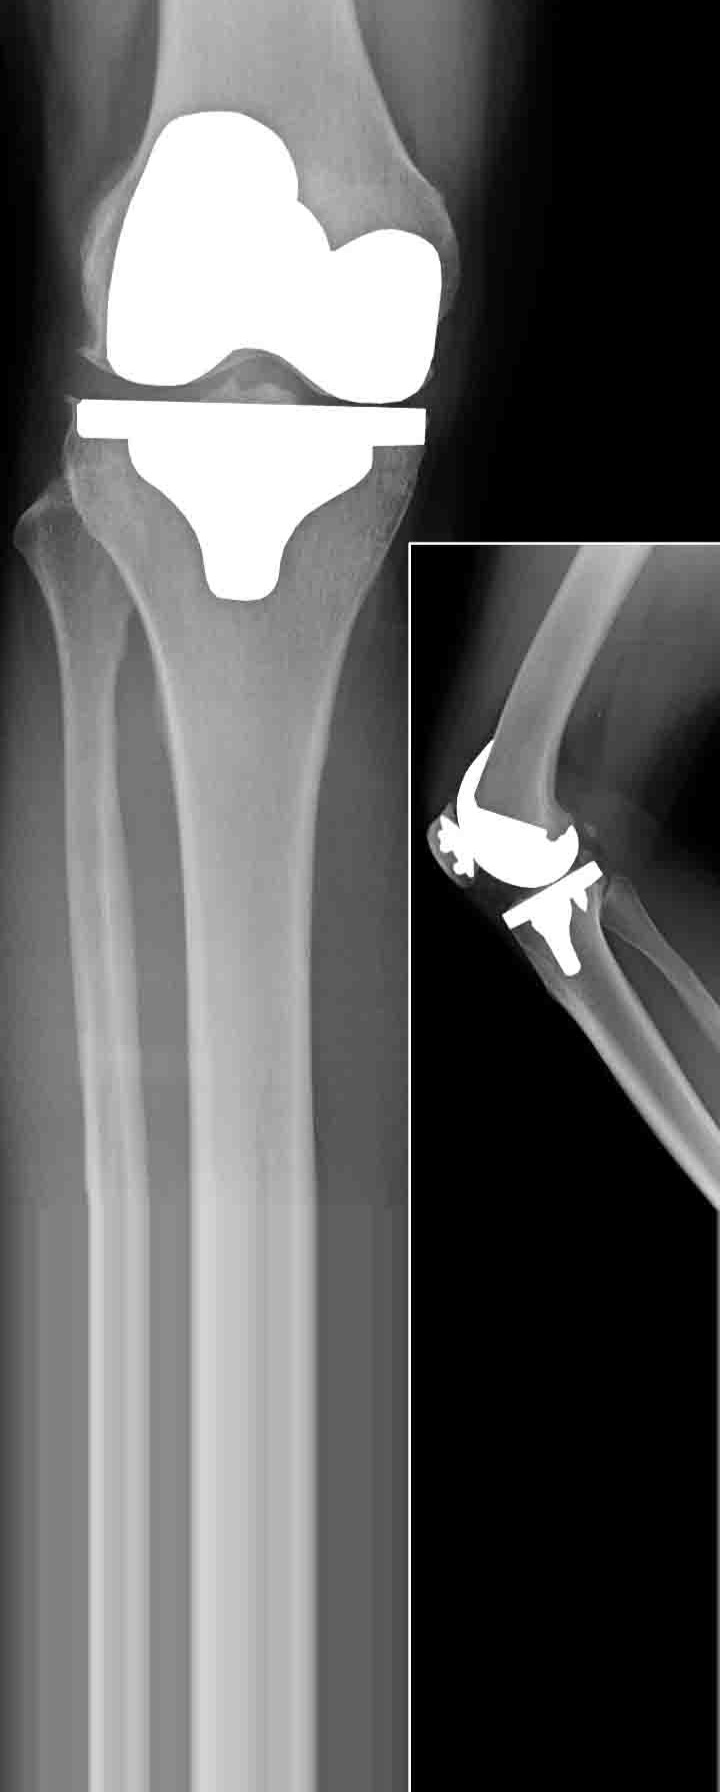Knee-TriathlonTritanium-Stryker: (55, 103, 448, 605), (437, 742, 623, 985)
